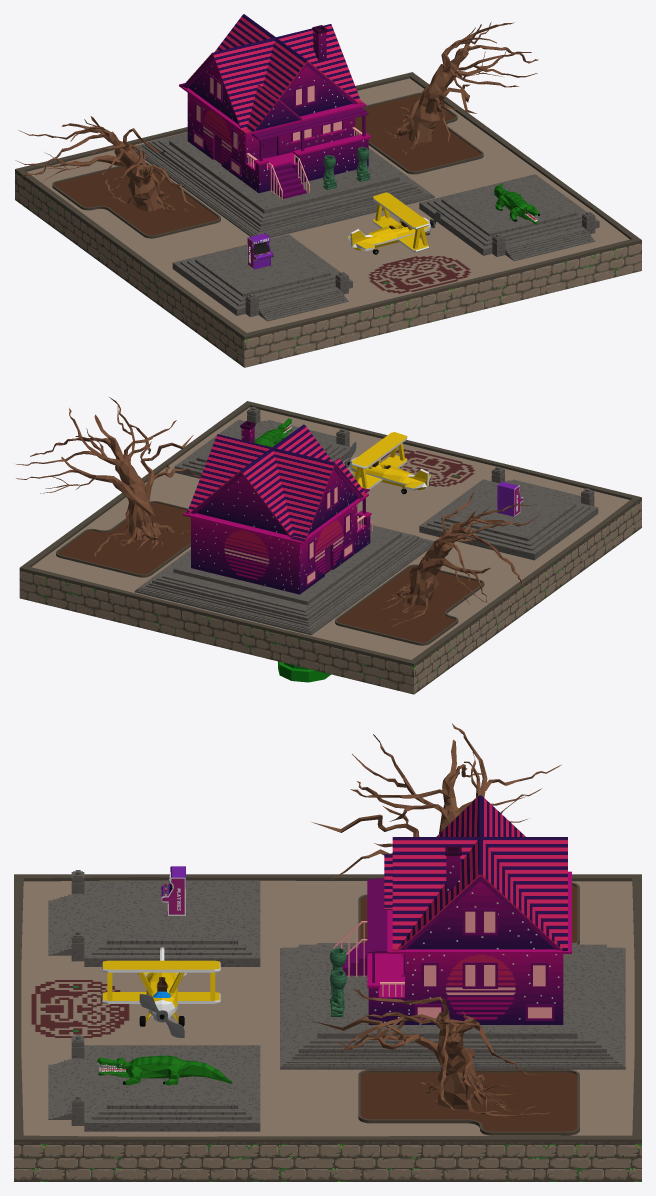
The picture shows the model from 3 angles, top to bottom: view 1: azimuth 30°, elevation 25°; view 2: azimuth 150°, elevation 25°; view 3: azimuth 270°, elevation 25°; orthographic projection. The views are drawn at different scales.
Parts seen in each view (by area): view 1: Cube.011, Cube.156, VEHICLES_AIRPLANE, ANIMAL_COCODRILO, OBJRANDOM_ARCADE; view 2: Cube.011, Cube.156, VEHICLES_AIRPLANE, OBJRANDOM_ARCADE, UNDERGROUND_PIPES, ANIMAL_COCODRILO; view 3: Cube.011, Cube.156, VEHICLES_AIRPLANE, ANIMAL_COCODRILO, OBJRANDOM_ARCADE.
Part boxes in pixels (x1,y1,x2,y2): Cube.011: (15, 22, 641, 367); Cube.156: (179, 14, 371, 199); VEHICLES_AIRPLANE: (348, 192, 441, 254); ANIMAL_COCODRILO: (494, 183, 539, 224); OBJRANDOM_ARCADE: (247, 233, 273, 269); Cube.011: (14, 397, 641, 694); Cube.156: (183, 421, 372, 594); VEHICLES_AIRPLANE: (344, 432, 431, 494); OBJRANDOM_ARCADE: (497, 481, 522, 516); UNDERGROUND_PIPES: (278, 661, 331, 682); ANIMAL_COCODRILO: (254, 418, 291, 447); Cube.011: (14, 723, 641, 1181); Cube.156: (333, 795, 571, 1024); VEHICLES_AIRPLANE: (102, 947, 220, 1037); ANIMAL_COCODRILO: (97, 1055, 232, 1085); OBJRANDOM_ARCADE: (161, 866, 185, 915).
Bounding box in the file's own units: 5099 × 2243 × 4000.
42 materials, 7 textured.
